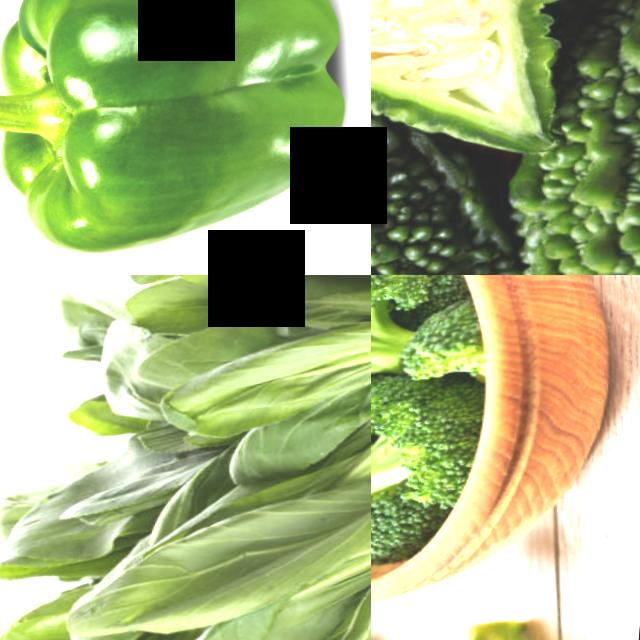bell pepper: (0, 0, 371, 275)
bitter gourd: (371, 73, 529, 275), (371, 0, 614, 114), (508, 78, 640, 275)
bok choy: (153, 384, 371, 640), (183, 275, 371, 412)
broccoli: (371, 380, 482, 505), (371, 592, 604, 640), (371, 275, 430, 410)
